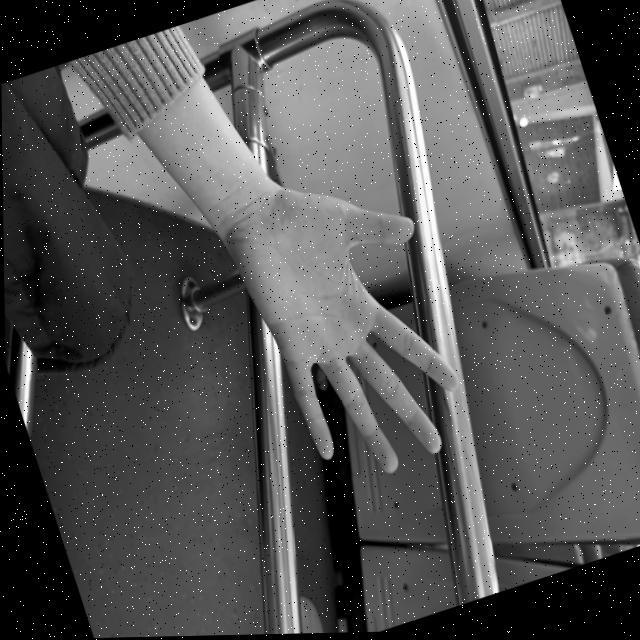no-gloves: (192, 132, 498, 509)
